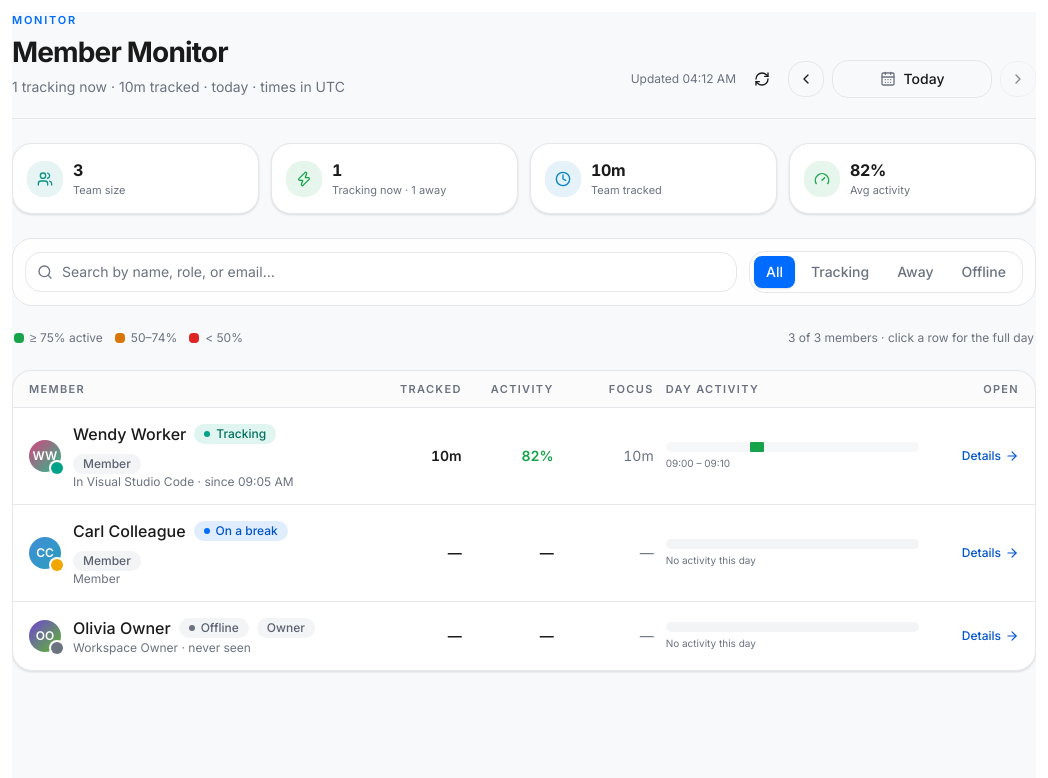
Test: monitor — who is working now (presence/team) › shows each member's real state, what they're in and since when, and filters by it
expect the text "Tracking" is shown: met, box [194,424,276,444]
expect the text "On a break" is shown: met, box [194,521,288,541]
Step 1. Click the tab "Away" → [915, 272], box [885,256,946,288]
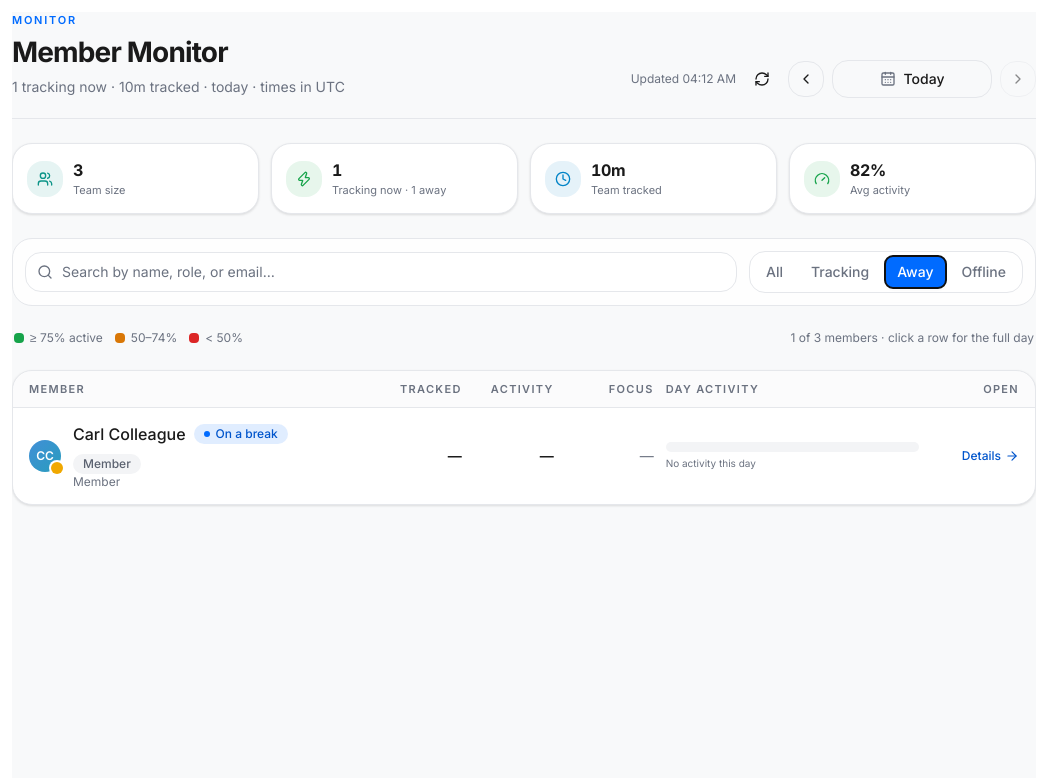
expect the text "1 of 3 members · click a row for the full day" is shown: met, box [790,330,1034,346]
expect the button "Wendy Worker" is gone: met
Step 2. Click the tab "Tracking" → [840, 272], box [799,256,881,288]
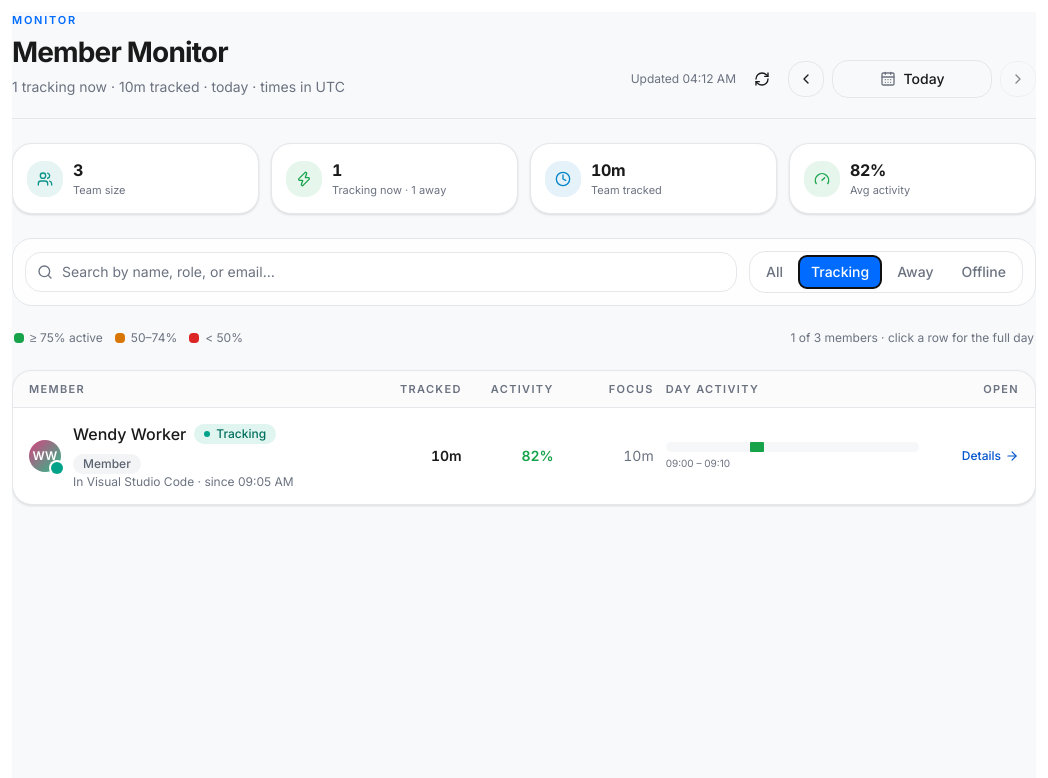
Step 3. Click the button "Wendy Worker" → [45, 456], box [13,408,1035,504]
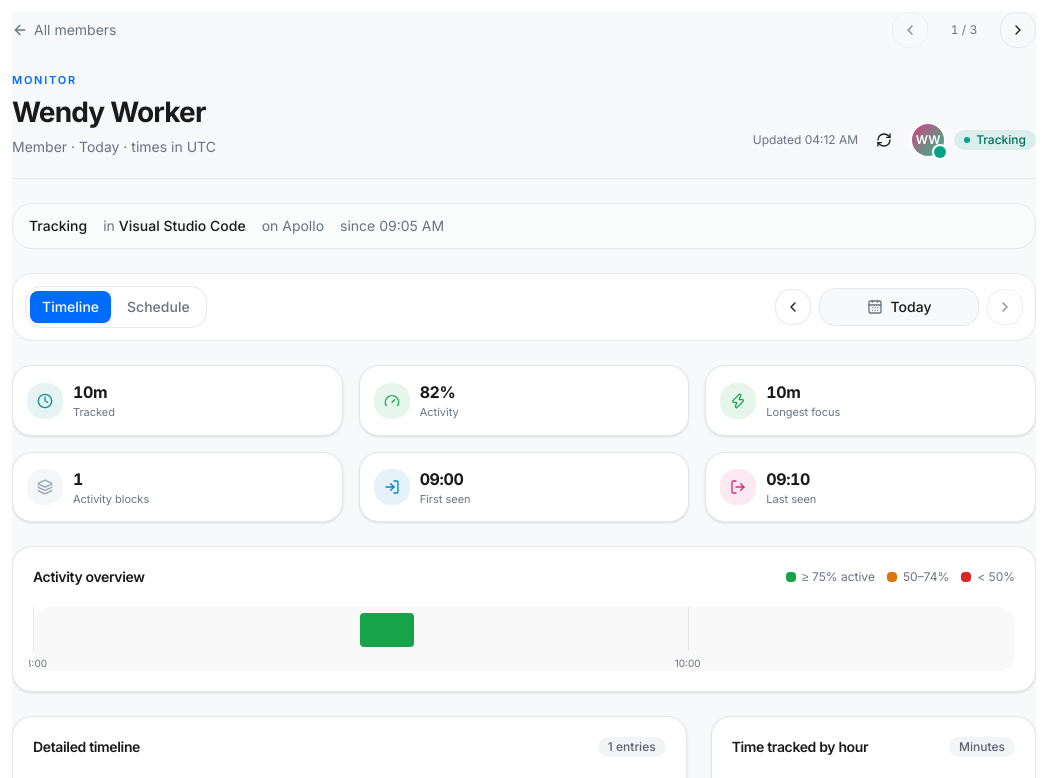
expect the text "Apollo" is shown: met, box [282,217,324,234]
